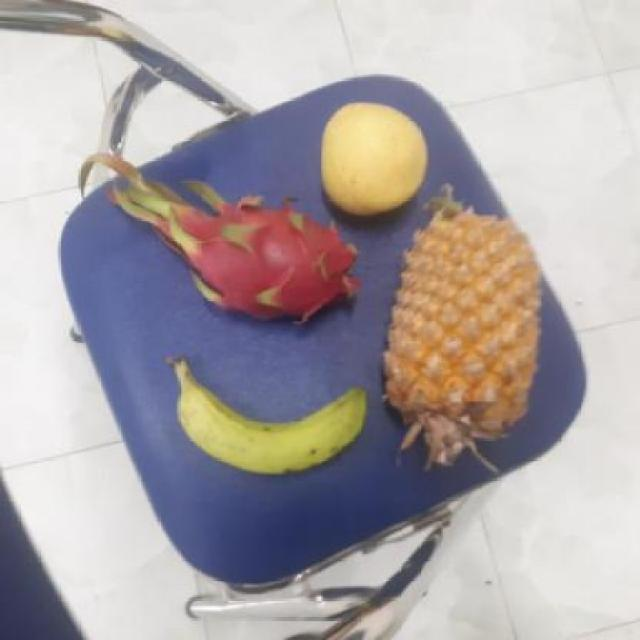banana: (162, 358, 362, 473)
dragon fruit: (171, 196, 357, 326)
pear: (314, 105, 432, 217)
pineapple: (376, 208, 544, 448)
